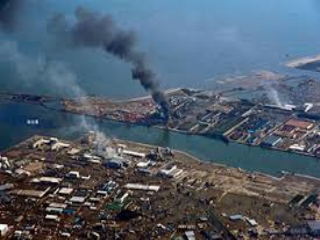smoke: (76, 9, 180, 129), (20, 46, 124, 159), (263, 75, 295, 113)
